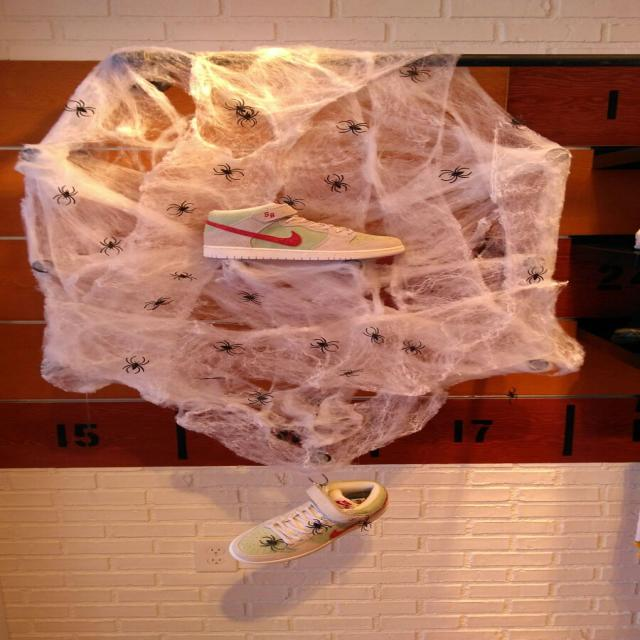shoe: (219, 476, 396, 576), (192, 196, 420, 265)
